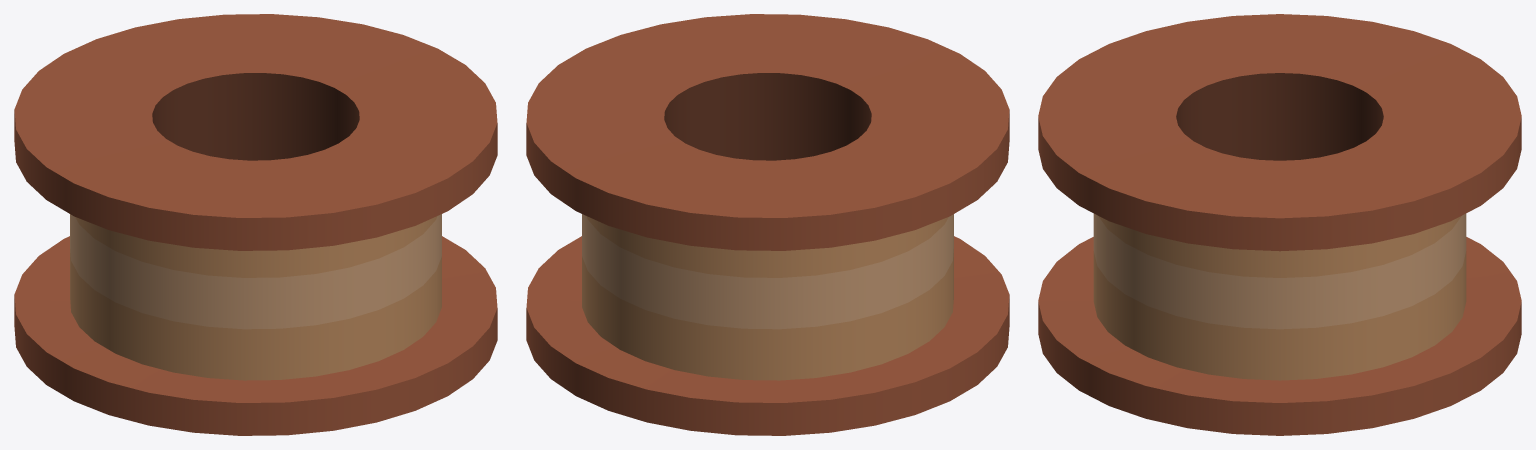
File: Wire coil.fbx
3 views of the same model, side by side, from view 1: azimuth 30°, elevation 25°; view 2: azimuth 150°, elevation 25°; view 3: azimuth 270°, elevation 25° (orthographic).
Parts seen in each view (by area): view 1: Wire Coil; view 2: Wire Coil; view 3: Wire Coil.
Boxes of the visible parts, box(x1,y1,x2,y2) form: Wire Coil: box(14, 14, 497, 435); Wire Coil: box(526, 14, 1009, 435); Wire Coil: box(1038, 14, 1521, 435).
Size of the model in its own units: 1.87 by 0.9296 by 1.87.
